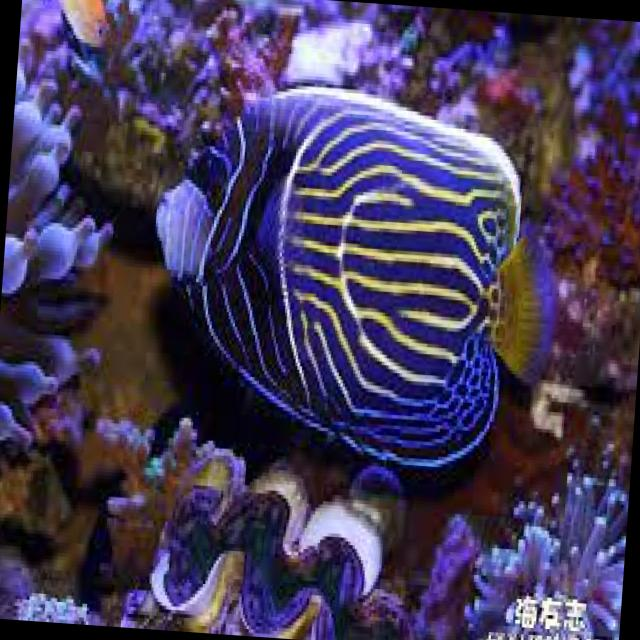AngelFish: (139, 76, 569, 490)
